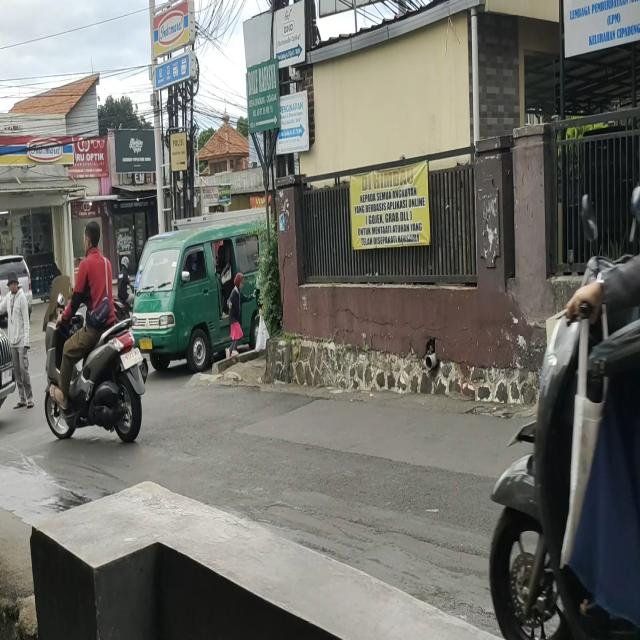helmet: (122, 255, 130, 271)
no-helmet: (85, 220, 104, 251)
